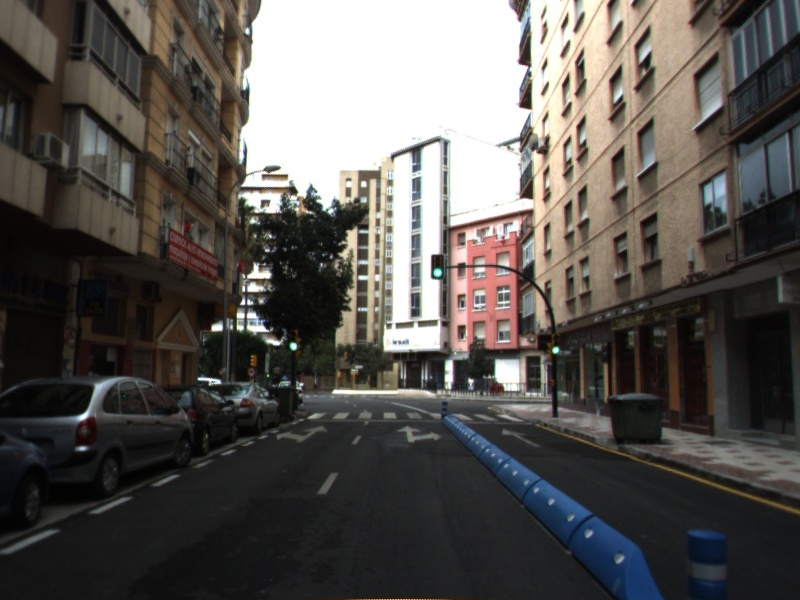STRAIGHT: (499, 426, 543, 449)
STRAIGHT_LEFT: (274, 423, 330, 444)
STRAIGHT_RIGHT: (394, 423, 445, 445)
